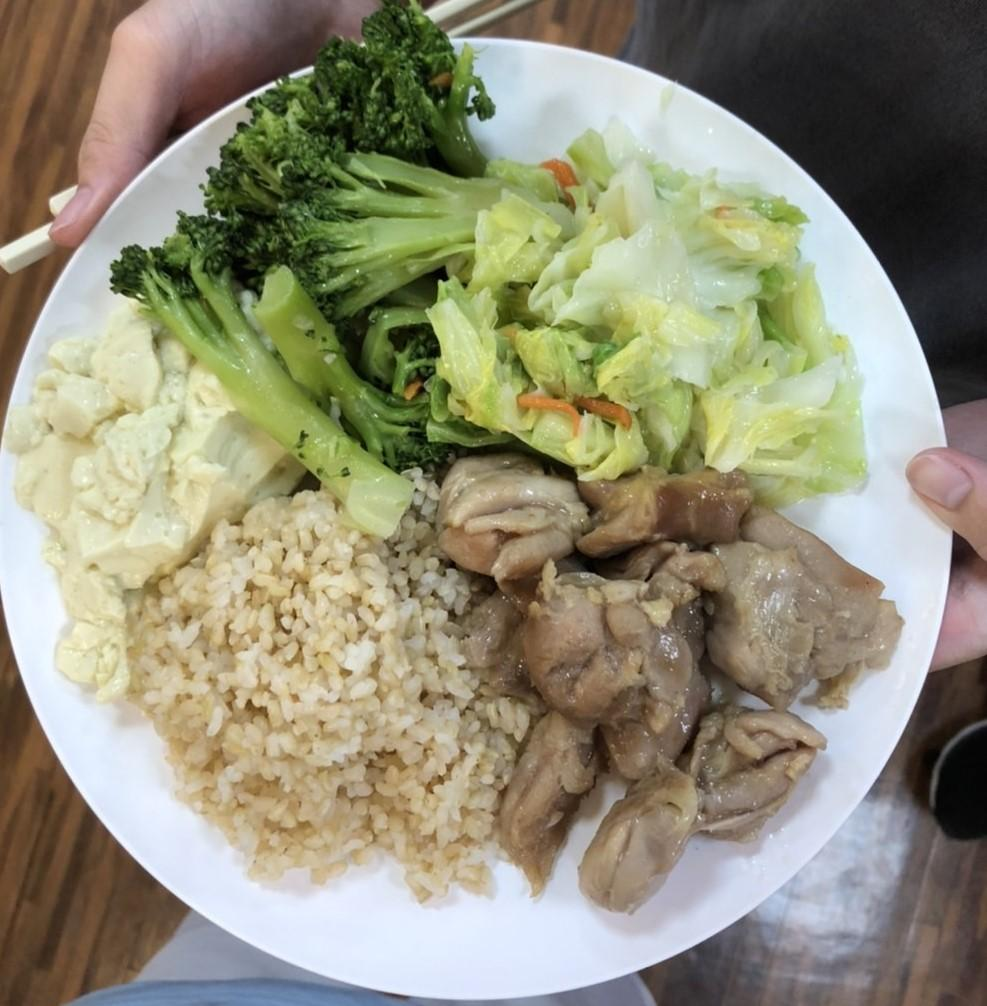big fried chicken leg: (3, 30, 966, 995)
box: (132, 496, 523, 897)
braised fish fillet: (120, 0, 490, 524), (451, 156, 852, 479), (8, 313, 291, 703)
braised pork: (428, 452, 903, 913)
